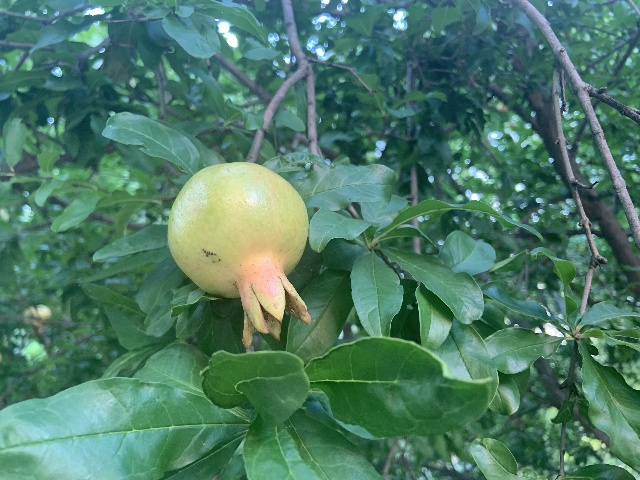mid-growth: (167, 160, 313, 349)
